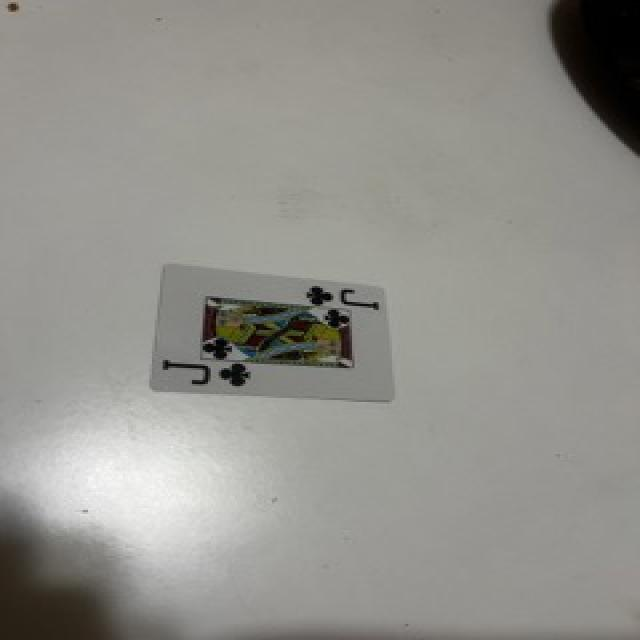Jack of clubs: (152, 264, 391, 400)
